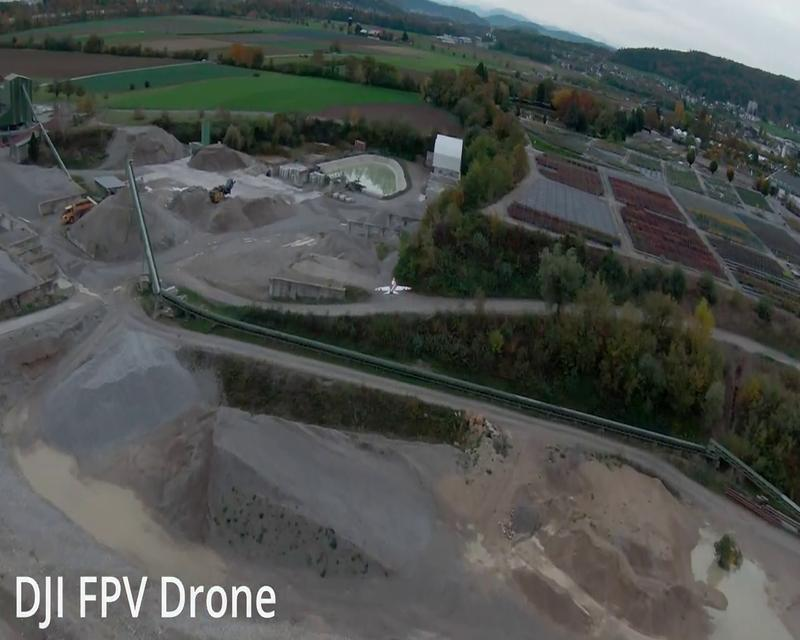UAV: (374, 278, 414, 296)
